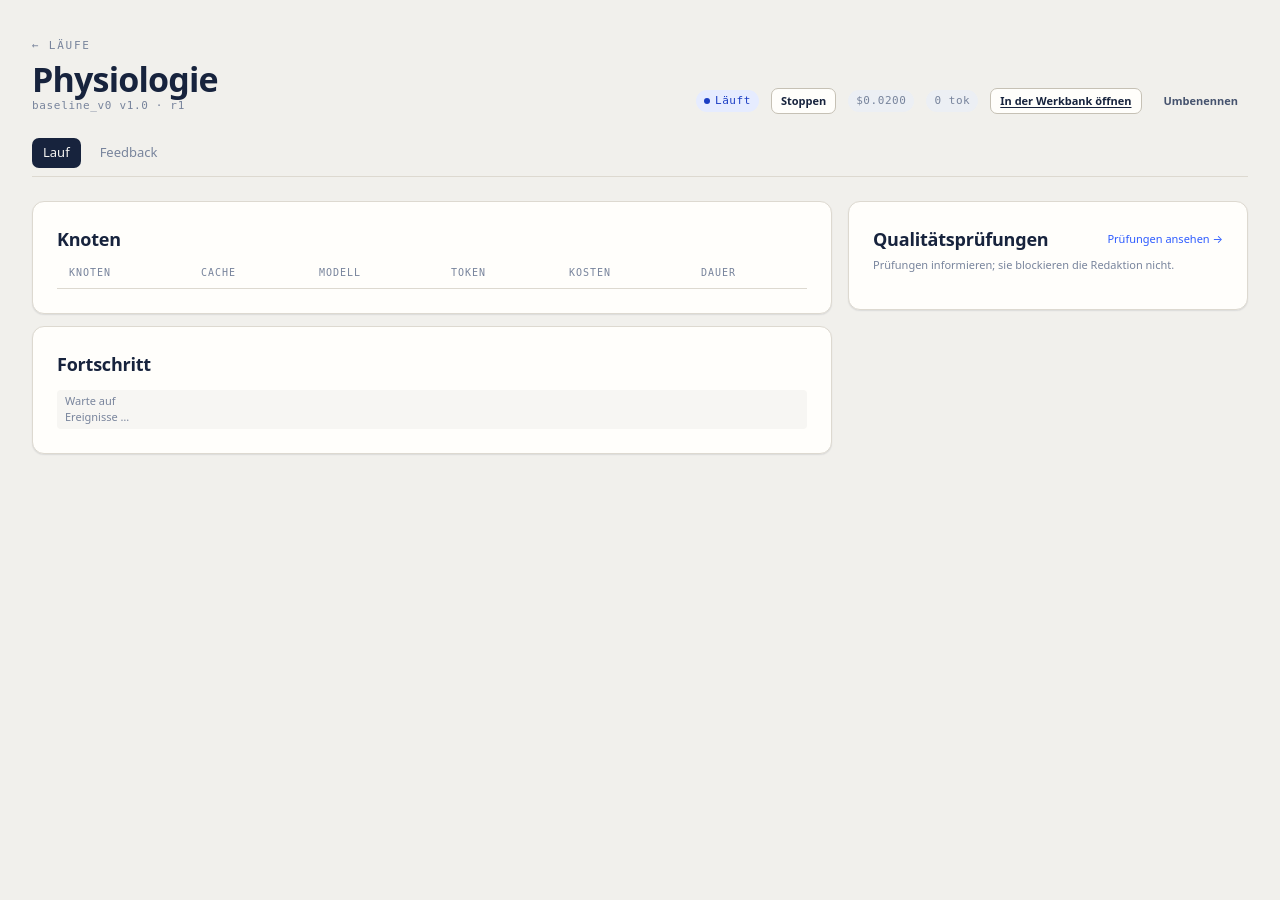
run detail › puts sharing and received feedback under the Feedback menu without replacing run controls or routes
Click the button "Feedback": {"x": 129, "y": 153} [89,138,168,168]
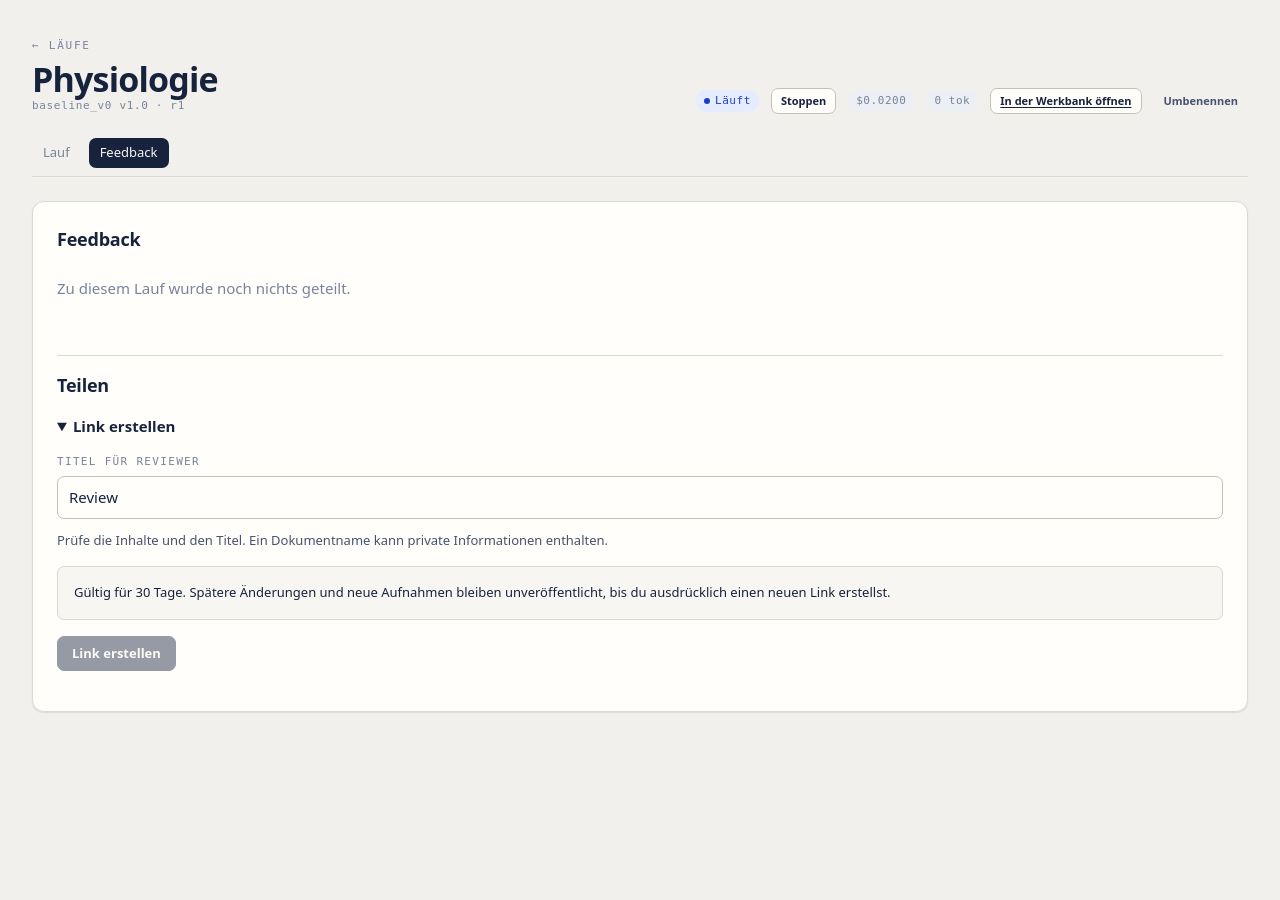
Expected: the button "Stoppen" is shown, [771,88,836,114]
Expected: the form is shown, [57,454,1223,671]
Click the button "Lauf": {"x": 56, "y": 153} [32,138,81,168]
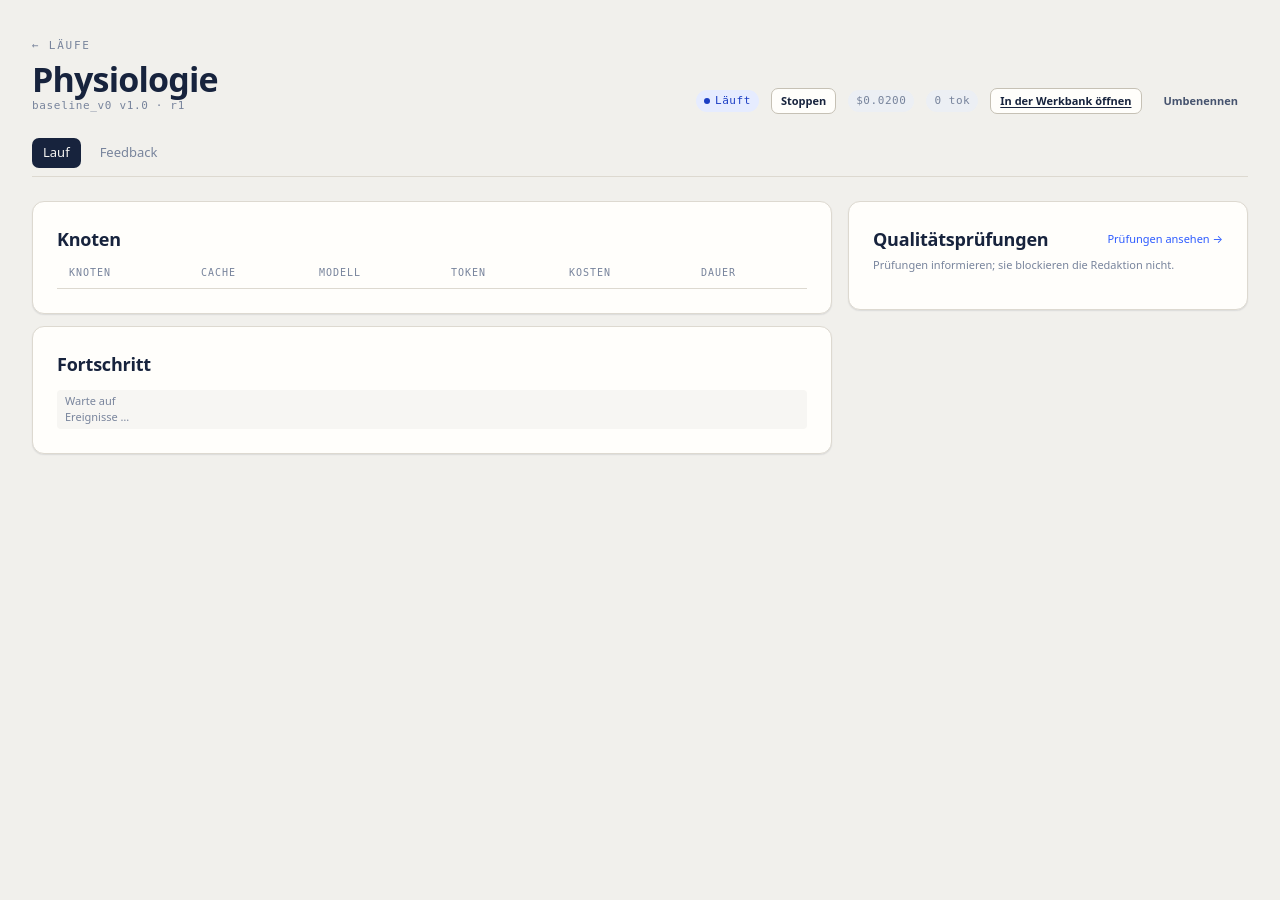
Expected: the element that starts with "Knoten" is shown, [32,201,1248,454]
